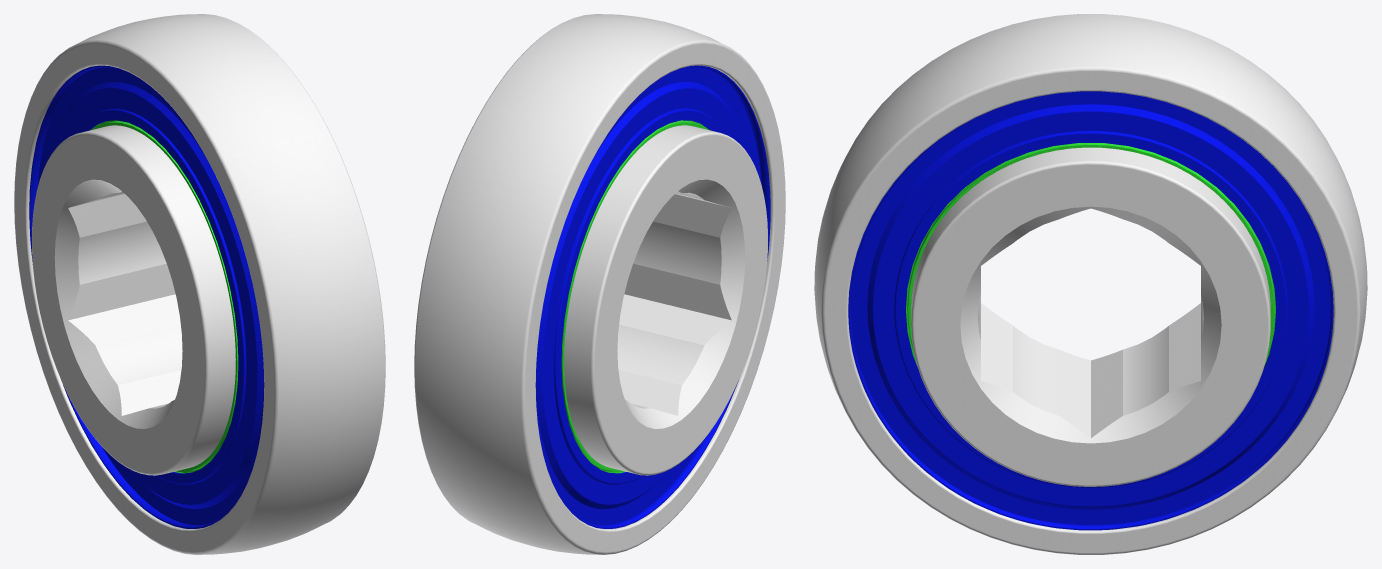
File: 207-KRRB12.glb
The picture shows the model from 3 angles, left to right: view 1: azimuth 30°, elevation 25°; view 2: azimuth 150°, elevation 25°; view 3: azimuth 270°, elevation 25°; orthographic projection. The views are drawn at different scales.
Parts seen in each view (by area): view 1: texture-2, texture, texture-3, texture-4; view 2: texture-2, texture, texture-3, texture-4; view 3: texture, texture-2, texture-3, texture-4.
Part boxes in pixels (x1=…): texture-2: x1=14, y1=14, x2=385, y2=554; texture: x1=32, y1=125, x2=235, y2=475; texture-3: x1=29, y1=65, x2=264, y2=528; texture-4: x1=90, y1=120, x2=238, y2=473; texture-2: x1=414, y1=14, x2=785, y2=554; texture: x1=564, y1=125, x2=767, y2=475; texture-3: x1=535, y1=65, x2=770, y2=528; texture-4: x1=561, y1=120, x2=709, y2=473; texture: x1=911, y1=147, x2=1270, y2=486; texture-2: x1=814, y1=14, x2=1367, y2=554; texture-3: x1=848, y1=91, x2=1333, y2=530; texture-4: x1=906, y1=143, x2=1275, y2=366.
Size of the model in its own units: 0.025 by 0.072 by 0.072.
7 materials, 7 textured.
